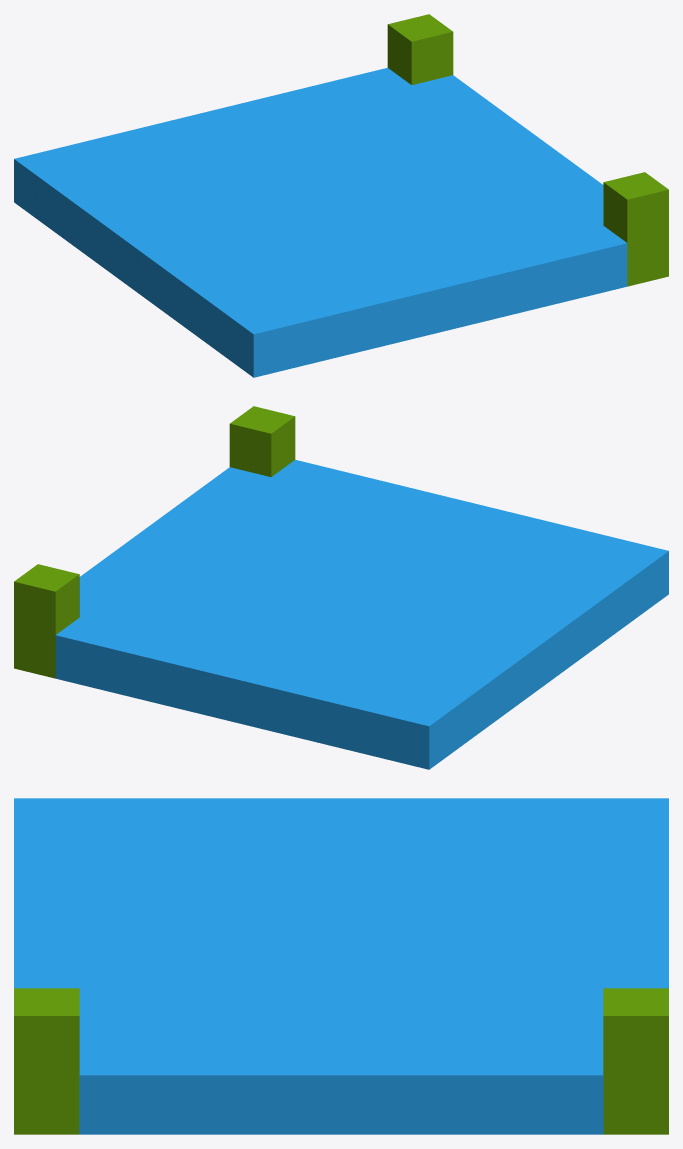
File: TileWater_12.fbx
The picture shows the model from 3 angles, top to bottom: view 1: azimuth 30°, elevation 25°; view 2: azimuth 150°, elevation 25°; view 3: azimuth 270°, elevation 25°; orthographic projection. The views are drawn at different scales.
Visible parts, largest first — view 1: TileWater_12; view 2: TileWater_12; view 3: TileWater_12.
Part boxes in pixels (x1,y1,x2,y2): TileWater_12: (14,14,668,377); TileWater_12: (14,406,668,769); TileWater_12: (14,798,668,1134).
Bounding box in the file's own units: 500 × 100 × 500.
